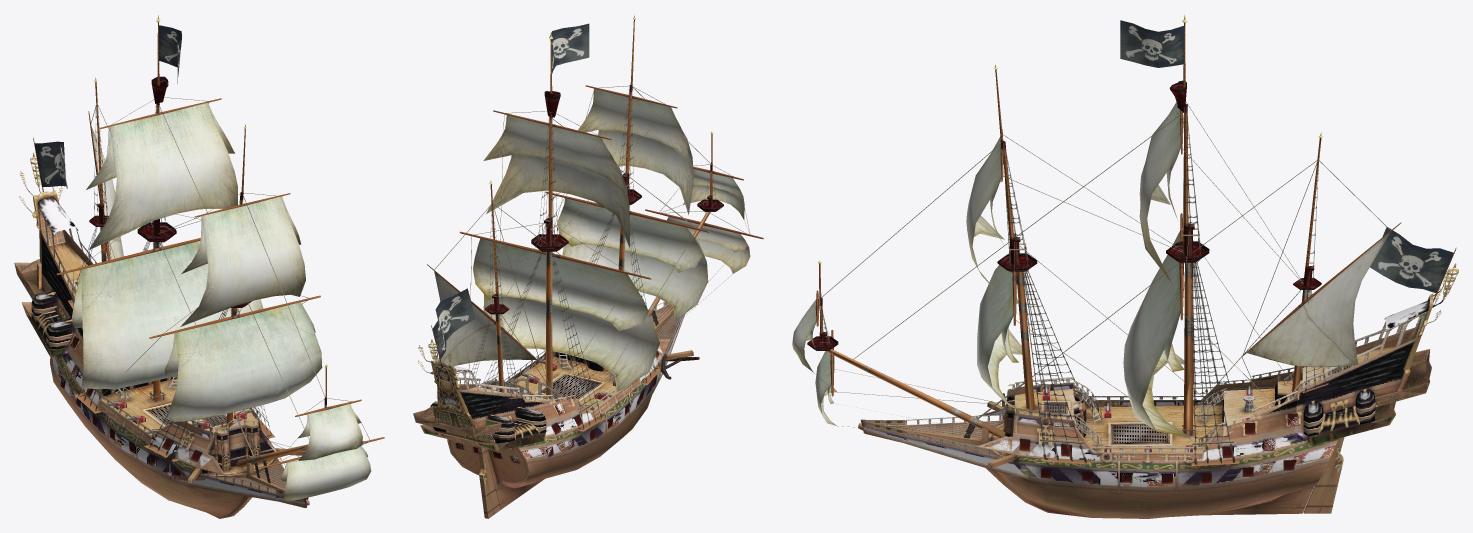
File: treasure_galleon.glb
3 views of the same model, side by side, from view 1: azimuth 30°, elevation 25°; view 2: azimuth 150°, elevation 25°; view 3: azimuth 270°, elevation 25° (orthographic). The views are drawn at different scales.
Visible parts, largest first — view 1: hull_hull_78, sail_hull_42_component_04, sail_hull_53_component_00, sail_hull_42_component_03, sail_hull_53_component_01, sail_hull_61_component_00, sail_hull_47_component_00, sail_hull_42_component_01, sail_hull_42_component_02, hull_hull_98, flag_hull_113_component_00, hull_hull_92 (+8 smaller); view 2: hull_hull_78, sail_furled_hull_72_component_00, sail_hull_53_component_00, sail_hull_57_component_00, sail_furled_hull_74_component_00, sail_furled_hull_76_component_00, sail_furled_hull_68_component_03, sail_furled_hull_70_component_00, sail_hull_47_component_00, sail_hull_33_component_00, sail_hull_42_component_03, sail_hull_61_component_00 (+18 smaller); view 3: hull_hull_78, sail_hull_33_component_00, hull_hull_98, sail_hull_53_component_00, flag_hull_113_component_00, sail_hull_61_component_00, sail_hull_47_component_00, sail_hull_42_component_04, flag_hull_108_component_00, hull_hull_84, sail_hull_42_component_03, native_hull_25_component_06 (+11 smaller).
Part boxes in pixels (x1,y1,x2,y2): hull_hull_78: (14, 190, 309, 518); sail_hull_42_component_04: (89, 102, 237, 249); sail_hull_53_component_00: (81, 240, 261, 379); sail_hull_42_component_03: (180, 196, 305, 326); sail_hull_53_component_01: (167, 303, 322, 422); sail_hull_61_component_00: (81, 245, 263, 389); sail_hull_47_component_00: (176, 302, 321, 393); sail_hull_42_component_01: (211, 446, 371, 501); sail_hull_42_component_02: (276, 404, 369, 464); hull_hull_98: (37, 204, 292, 504); flag_hull_113_component_00: (34, 141, 67, 188); hull_hull_92: (19, 152, 270, 483); hull_hull_78: (413, 302, 685, 509); sail_furled_hull_72_component_00: (473, 238, 648, 331); sail_hull_53_component_00: (483, 294, 659, 391); sail_hull_57_component_00: (486, 138, 629, 247); sail_furled_hull_74_component_00: (483, 115, 626, 195); sail_furled_hull_76_component_00: (474, 246, 645, 310); sail_furled_hull_68_component_03: (578, 88, 689, 162); sail_furled_hull_70_component_00: (557, 198, 701, 272); sail_hull_47_component_00: (562, 232, 708, 321); sail_hull_33_component_00: (434, 271, 536, 365); sail_hull_42_component_03: (598, 114, 693, 214); sail_hull_61_component_00: (488, 296, 657, 354); hull_hull_78: (858, 293, 1433, 518); sail_hull_33_component_00: (1247, 232, 1389, 367); hull_hull_98: (905, 311, 1427, 457); sail_hull_53_component_00: (1123, 231, 1184, 431); flag_hull_113_component_00: (1370, 227, 1453, 292); sail_hull_61_component_00: (1123, 255, 1189, 436); sail_hull_47_component_00: (977, 266, 1026, 413); sail_hull_42_component_04: (1139, 102, 1180, 283); flag_hull_108_component_00: (1120, 20, 1183, 67); hull_hull_84: (987, 383, 1344, 513); sail_hull_42_component_03: (966, 137, 1004, 299); native_hull_25_component_06: (1191, 262, 1234, 470).
Size of the model in its own units: 22.61 by 50.18 by 60.26.
169 materials, 169 textured.
